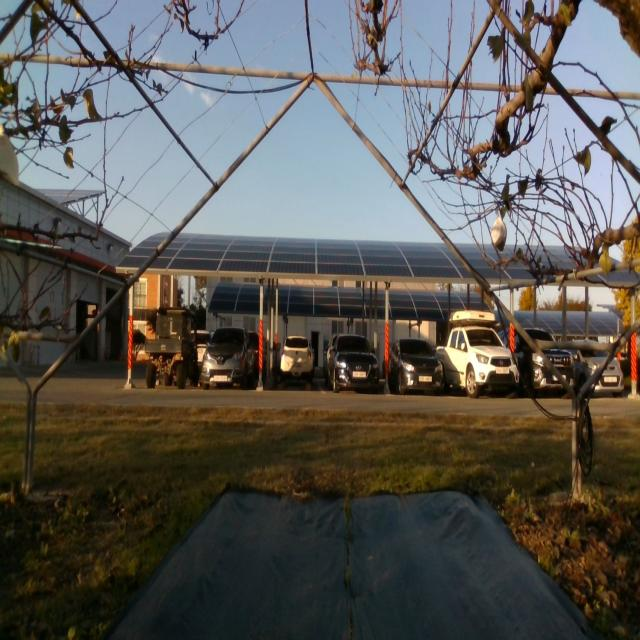pearbags: (0, 181, 132, 370), (491, 210, 507, 252)
